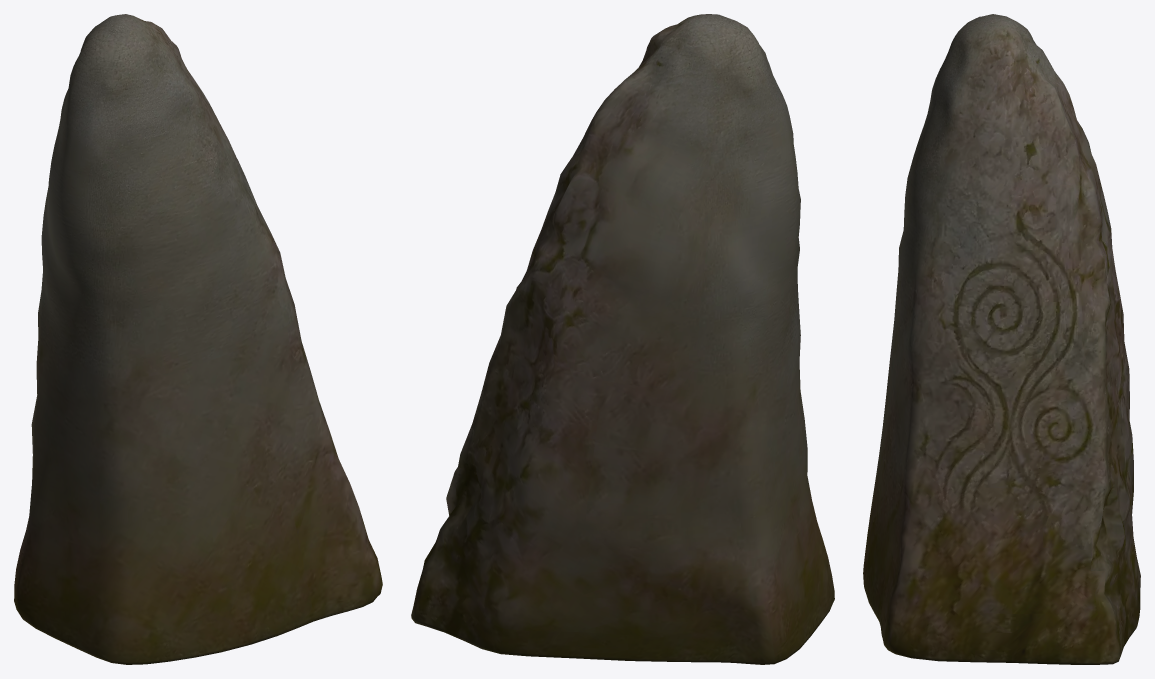
The model's file is menhir.glb.
3 views of the same model, side by side, from view 1: azimuth 30°, elevation 25°; view 2: azimuth 150°, elevation 25°; view 3: azimuth 270°, elevation 25° (orthographic). The views are drawn at different scales.
Visible parts, largest first — view 1: tripo_node_09fff6d7-f29d-4e0a-a83c-c29f32fe2331; view 2: tripo_node_09fff6d7-f29d-4e0a-a83c-c29f32fe2331; view 3: tripo_node_09fff6d7-f29d-4e0a-a83c-c29f32fe2331.
Boxes of the visible parts, x1,y1,x2,y2 form: tripo_node_09fff6d7-f29d-4e0a-a83c-c29f32fe2331: (14,14,382,664); tripo_node_09fff6d7-f29d-4e0a-a83c-c29f32fe2331: (411,14,834,664); tripo_node_09fff6d7-f29d-4e0a-a83c-c29f32fe2331: (863,14,1140,664).
Size of the model in its own units: 0.565 by 0.9995 by 0.4604.
Materials: 1 (1 with a texture image).
